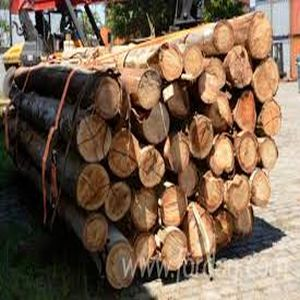log: (181, 204, 216, 266), (73, 161, 112, 214), (73, 113, 112, 164), (104, 126, 140, 181), (157, 225, 190, 279), (244, 10, 275, 62), (92, 71, 125, 119), (230, 89, 261, 137), (188, 114, 217, 165), (196, 171, 228, 217), (162, 78, 194, 124), (203, 89, 234, 136), (156, 184, 189, 228), (252, 55, 282, 103), (196, 56, 228, 101), (103, 241, 133, 289), (226, 43, 255, 92), (207, 131, 236, 180), (245, 167, 276, 212), (136, 144, 166, 190), (222, 174, 253, 218), (141, 101, 170, 147), (132, 185, 161, 231), (78, 213, 109, 255), (161, 129, 191, 172), (233, 128, 259, 176), (134, 68, 163, 111), (131, 230, 158, 276), (156, 41, 184, 85), (172, 160, 201, 202), (104, 180, 132, 222), (208, 209, 237, 248), (210, 19, 237, 59), (259, 97, 284, 140), (181, 40, 204, 86), (231, 204, 257, 244), (255, 134, 281, 173)
